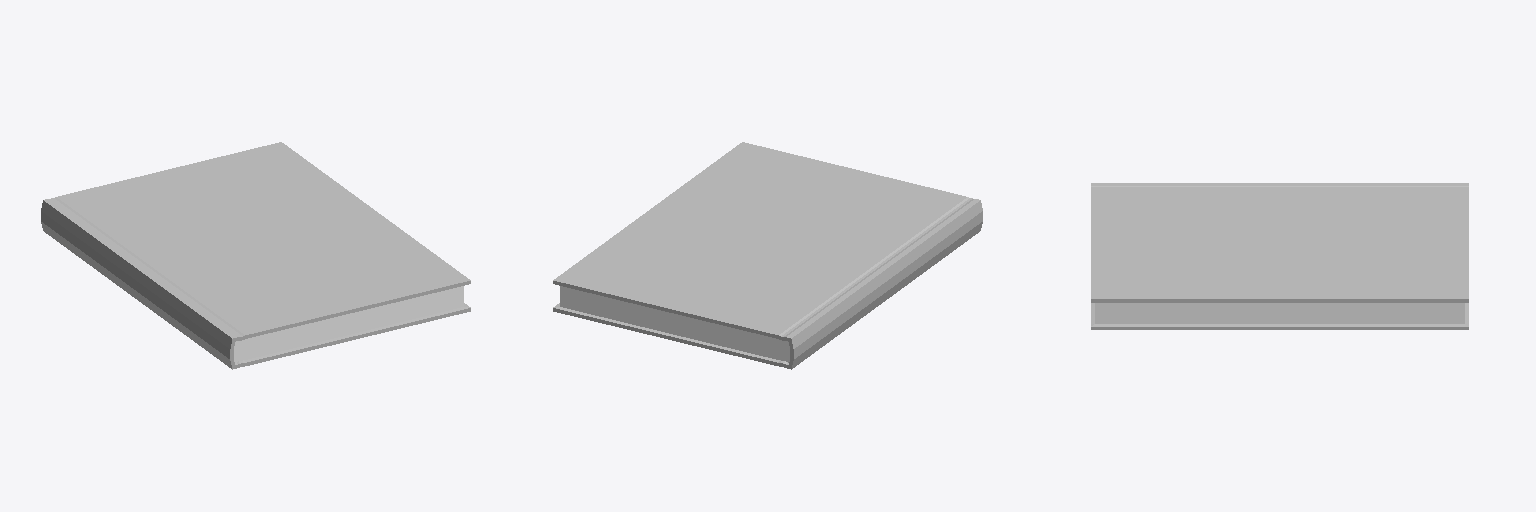
File: book.obj
3 renders of one model, left to right at view 1: azimuth 30°, elevation 25°; view 2: azimuth 150°, elevation 25°; view 3: azimuth 270°, elevation 25°, orthographic.
Parts seen in each view (by area): view 1: Architexture_Plane; view 2: Architexture_Plane; view 3: Architexture_Plane.
Part boxes in pixels (bbox=[...]): Architexture_Plane: bbox=[41, 142, 470, 369]; Architexture_Plane: bbox=[553, 142, 982, 369]; Architexture_Plane: bbox=[1091, 183, 1468, 329].
Size of the model in its own units: 0.7338 by 0.0904 by 1.